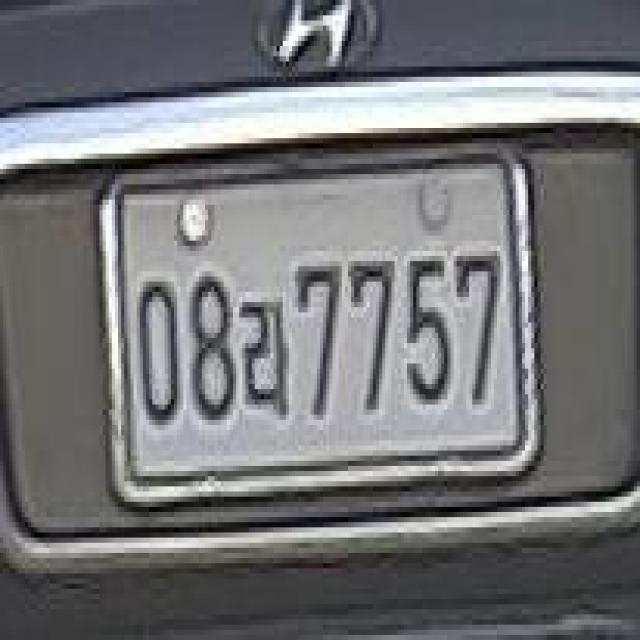illegal_plate: (105, 141, 539, 501)
